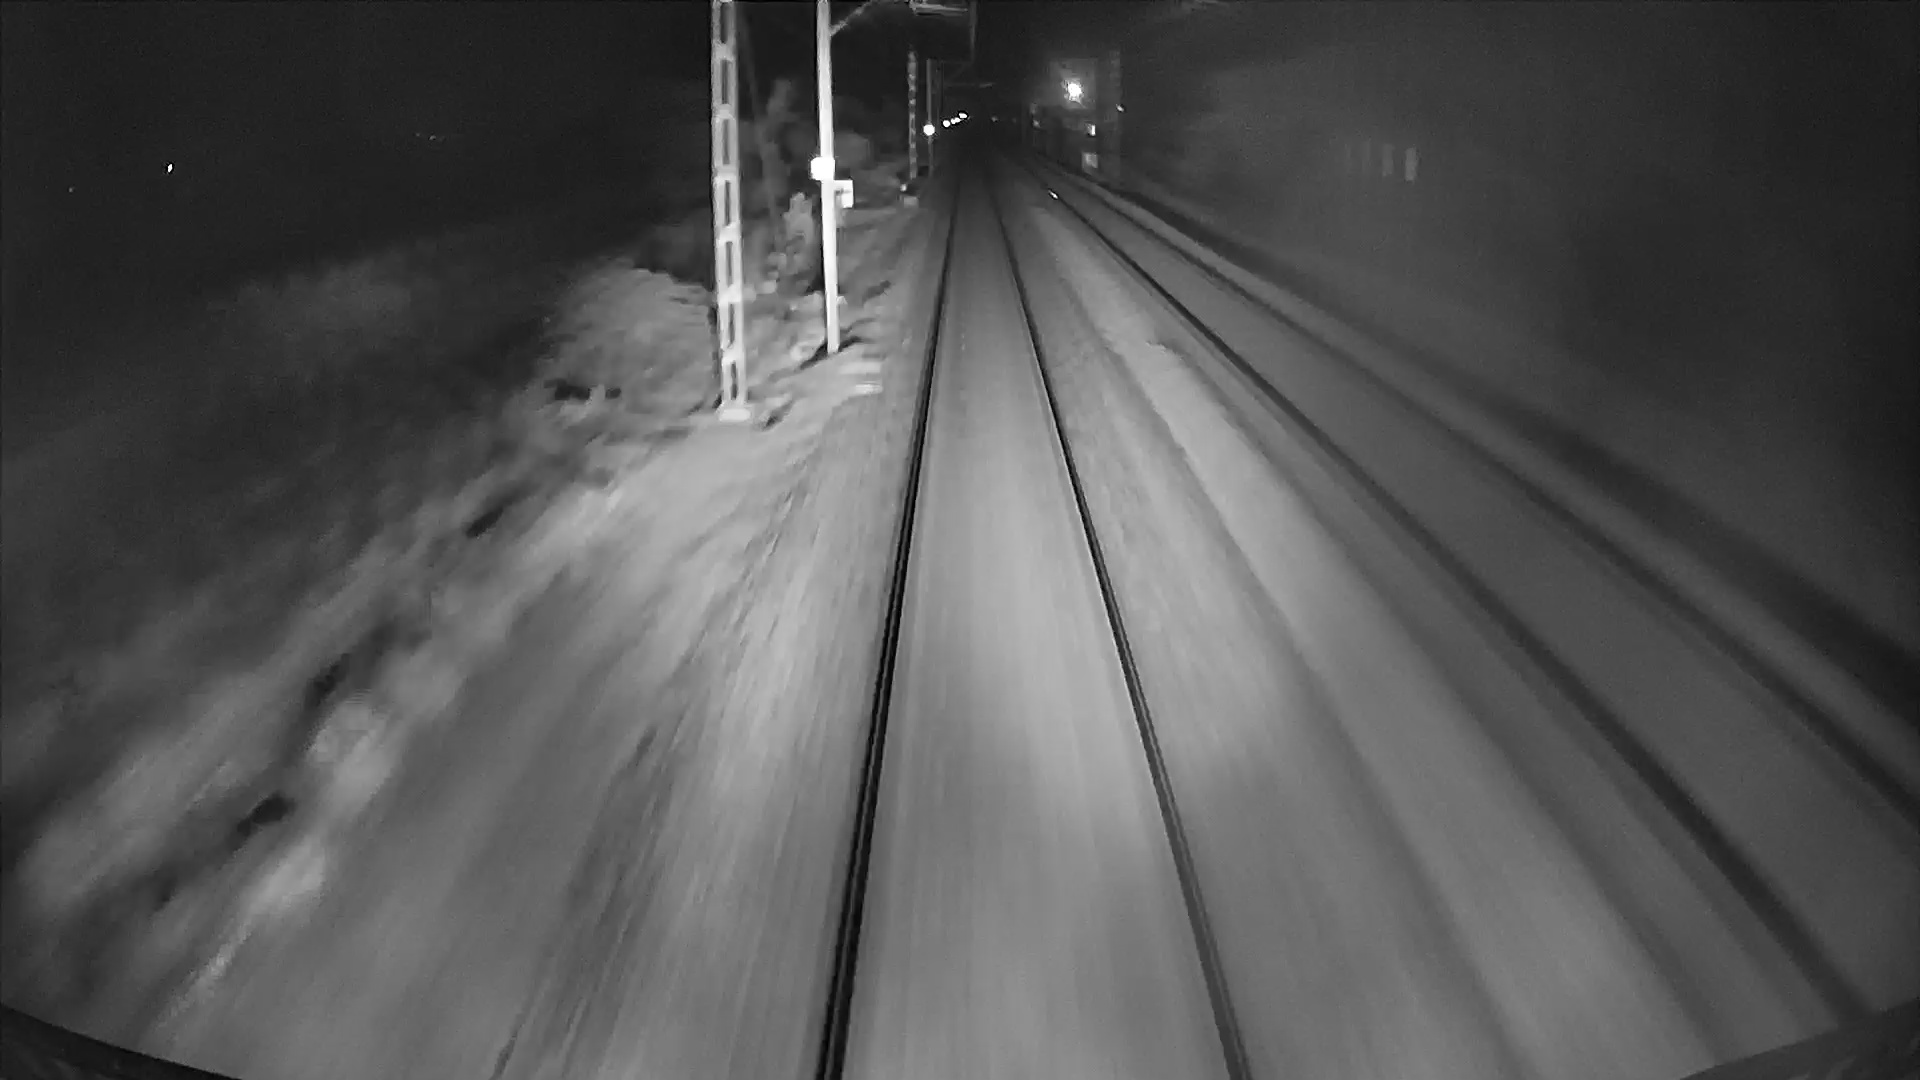track1: (837, 169, 1234, 1035)
track2: (1055, 191, 1911, 973)
